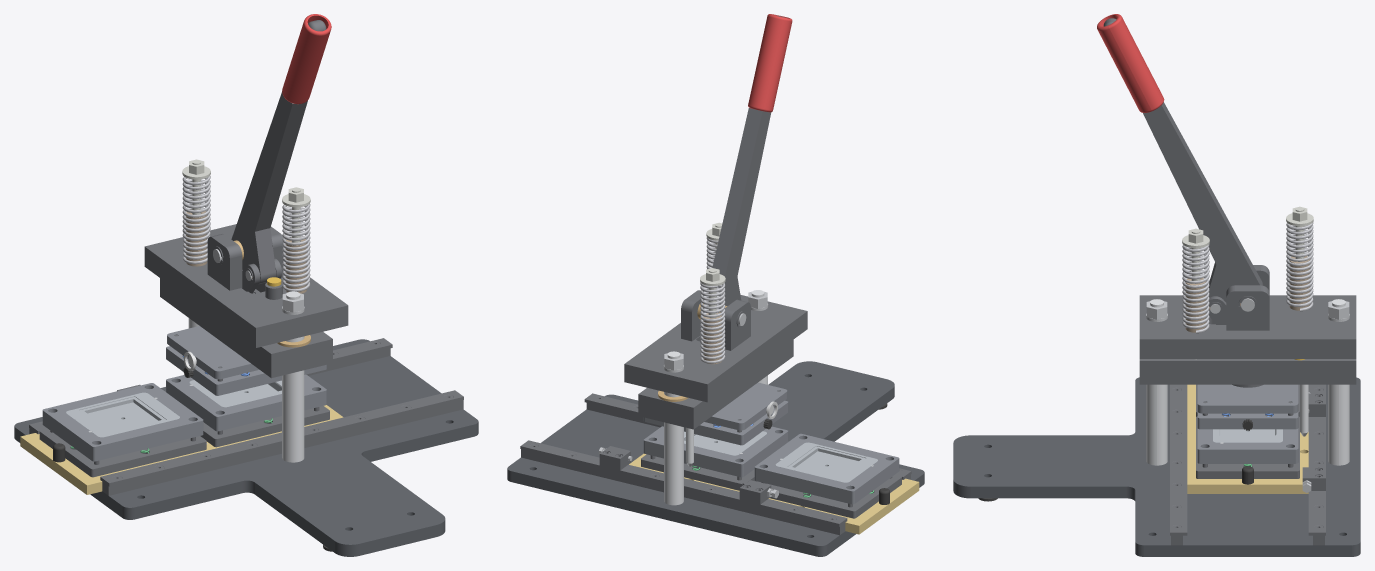
Rendered from MagPress-M4_assembly.glb.
3 views of the same model, side by side, from view 1: azimuth 30°, elevation 25°; view 2: azimuth 150°, elevation 25°; view 3: azimuth 270°, elevation 25° (orthographic). The views are drawn at different scales.
Parts seen in each view (by area): view 1: MP-101_1, MP-108_1, MP-113_1, MP-211-A_1, MP-109_1, MP-103-F_1, MP-211-B_1, MP-102-F_1, MP-205_1, BUY-30_1, MP-201_1, MP-107_1 (+11 smaller); view 2: MP-101_1, MP-108_1, MP-113_1, MP-211-A_1, MP-109_1, MP-103-B_1, MP-102-B_1, MP-211-B_1, BUY-30_1, MP-201_1, BUY-20_2, MP-205_1 (+11 smaller); view 3: MP-101_1, MP-108_1, MP-113_1, MP-109_1, MP-201_1, MP-105_1, BUY-30_1, MP-211-B_1, MP-103-F_1, BUY-20_2, BUY-20_1, MP-107_1 (+8 smaller).
Boxes of the visible parts, x1=… form: MP-101_1: x1=14, y1=339, x2=478, y2=556; MP-108_1: x1=144, y1=224, x2=348, y2=347; MP-113_1: x1=231, y1=20, x2=326, y2=283; MP-211-A_1: x1=42, y1=383, x2=203, y2=461; MP-109_1: x1=160, y1=278, x2=332, y2=378; MP-103-F_1: x1=100, y1=390, x2=463, y2=486; MP-211-B_1: x1=166, y1=374, x2=326, y2=431; MP-102-F_1: x1=102, y1=400, x2=463, y2=495; MP-205_1: x1=39, y1=428, x2=206, y2=477; BUY-30_1: x1=282, y1=14, x2=331, y2=104; MP-201_1: x1=167, y1=326, x2=259, y2=379; MP-107_1: x1=282, y1=291, x2=304, y2=462; MP-101_1: x1=507, y1=361, x2=924, y2=556; MP-108_1: x1=624, y1=294, x2=807, y2=402; MP-113_1: x1=703, y1=15, x2=784, y2=312; MP-211-A_1: x1=754, y1=433, x2=899, y2=504; MP-109_1: x1=638, y1=339, x2=793, y2=429; MP-103-B_1: x1=520, y1=440, x2=847, y2=526; MP-102-B_1: x1=521, y1=449, x2=845, y2=535; MP-211-B_1: x1=643, y1=426, x2=788, y2=477; BUY-30_1: x1=748, y1=14, x2=792, y2=112; MP-201_1: x1=704, y1=382, x2=787, y2=430; BUY-20_2: x1=700, y1=282, x2=725, y2=363; MP-205_1: x1=757, y1=474, x2=901, y2=518; MP-101_1: x1=953, y1=377, x2=1360, y2=556; MP-108_1: x1=1139, y1=295, x2=1356, y2=358; MP-113_1: x1=1103, y1=18, x2=1263, y2=302; MP-109_1: x1=1139, y1=359, x2=1356, y2=384; MP-201_1: x1=1197, y1=384, x2=1298, y2=413; MP-105_1: x1=1187, y1=384, x2=1308, y2=493; BUY-30_1: x1=1097, y1=14, x2=1164, y2=112; MP-211-B_1: x1=1197, y1=428, x2=1298, y2=463; MP-103-F_1: x1=1170, y1=384, x2=1187, y2=535; BUY-20_2: x1=1286, y1=222, x2=1313, y2=311; BUY-20_1: x1=1182, y1=244, x2=1209, y2=333; MP-107_1: x1=1146, y1=299, x2=1167, y2=465.
Size of the model in its own units: 480 by 585 by 470.
